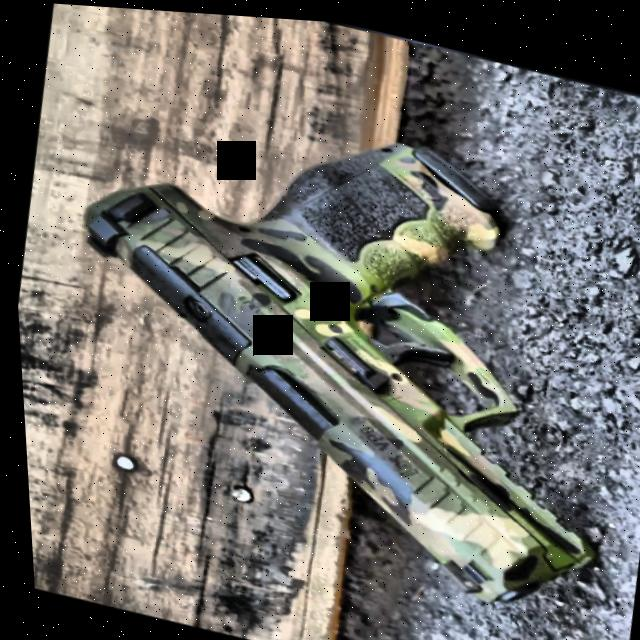HKVP9: (20, 61, 640, 625)
